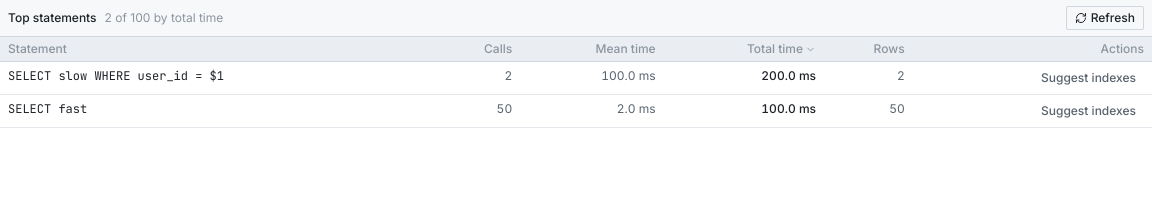
Test: PerformancePanel › falls back to normalized SQL plus schema metadata when the statement cannot be explained
Click the button "Suggest indexes" in the row of "SELECT slow WHERE user_id = $1" at [1088, 78], box [1033,66,1144,90]
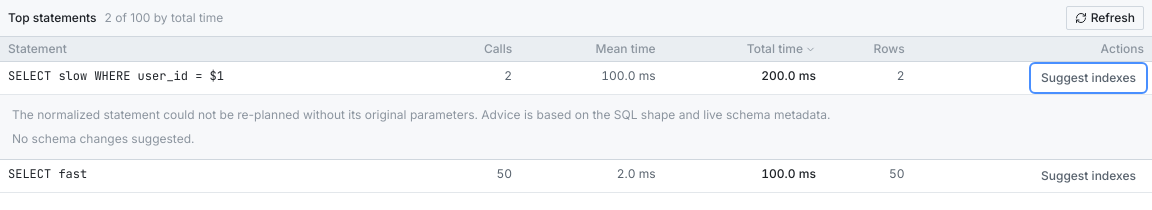
Expected: the text "could not be re-planned" is shown, [12,107,830,122]
